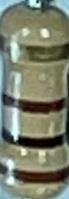Black: (1, 124, 66, 151)
Brown: (0, 161, 68, 184), (2, 92, 67, 114)
Side-Gold: (0, 33, 68, 62)
